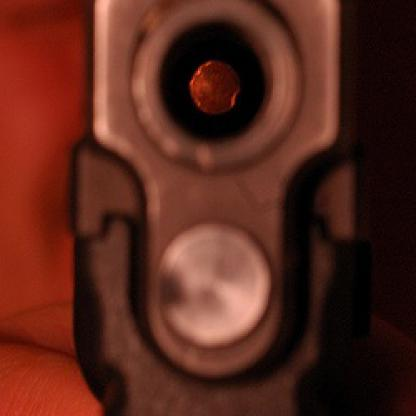gun: (75, 0, 373, 414)
